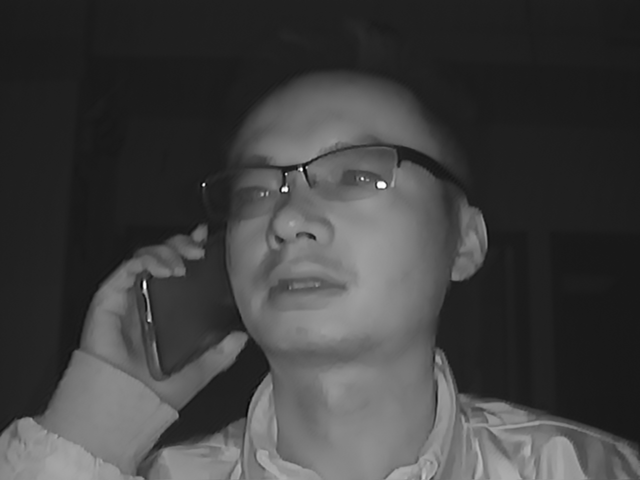hand: (92, 220, 220, 392)
